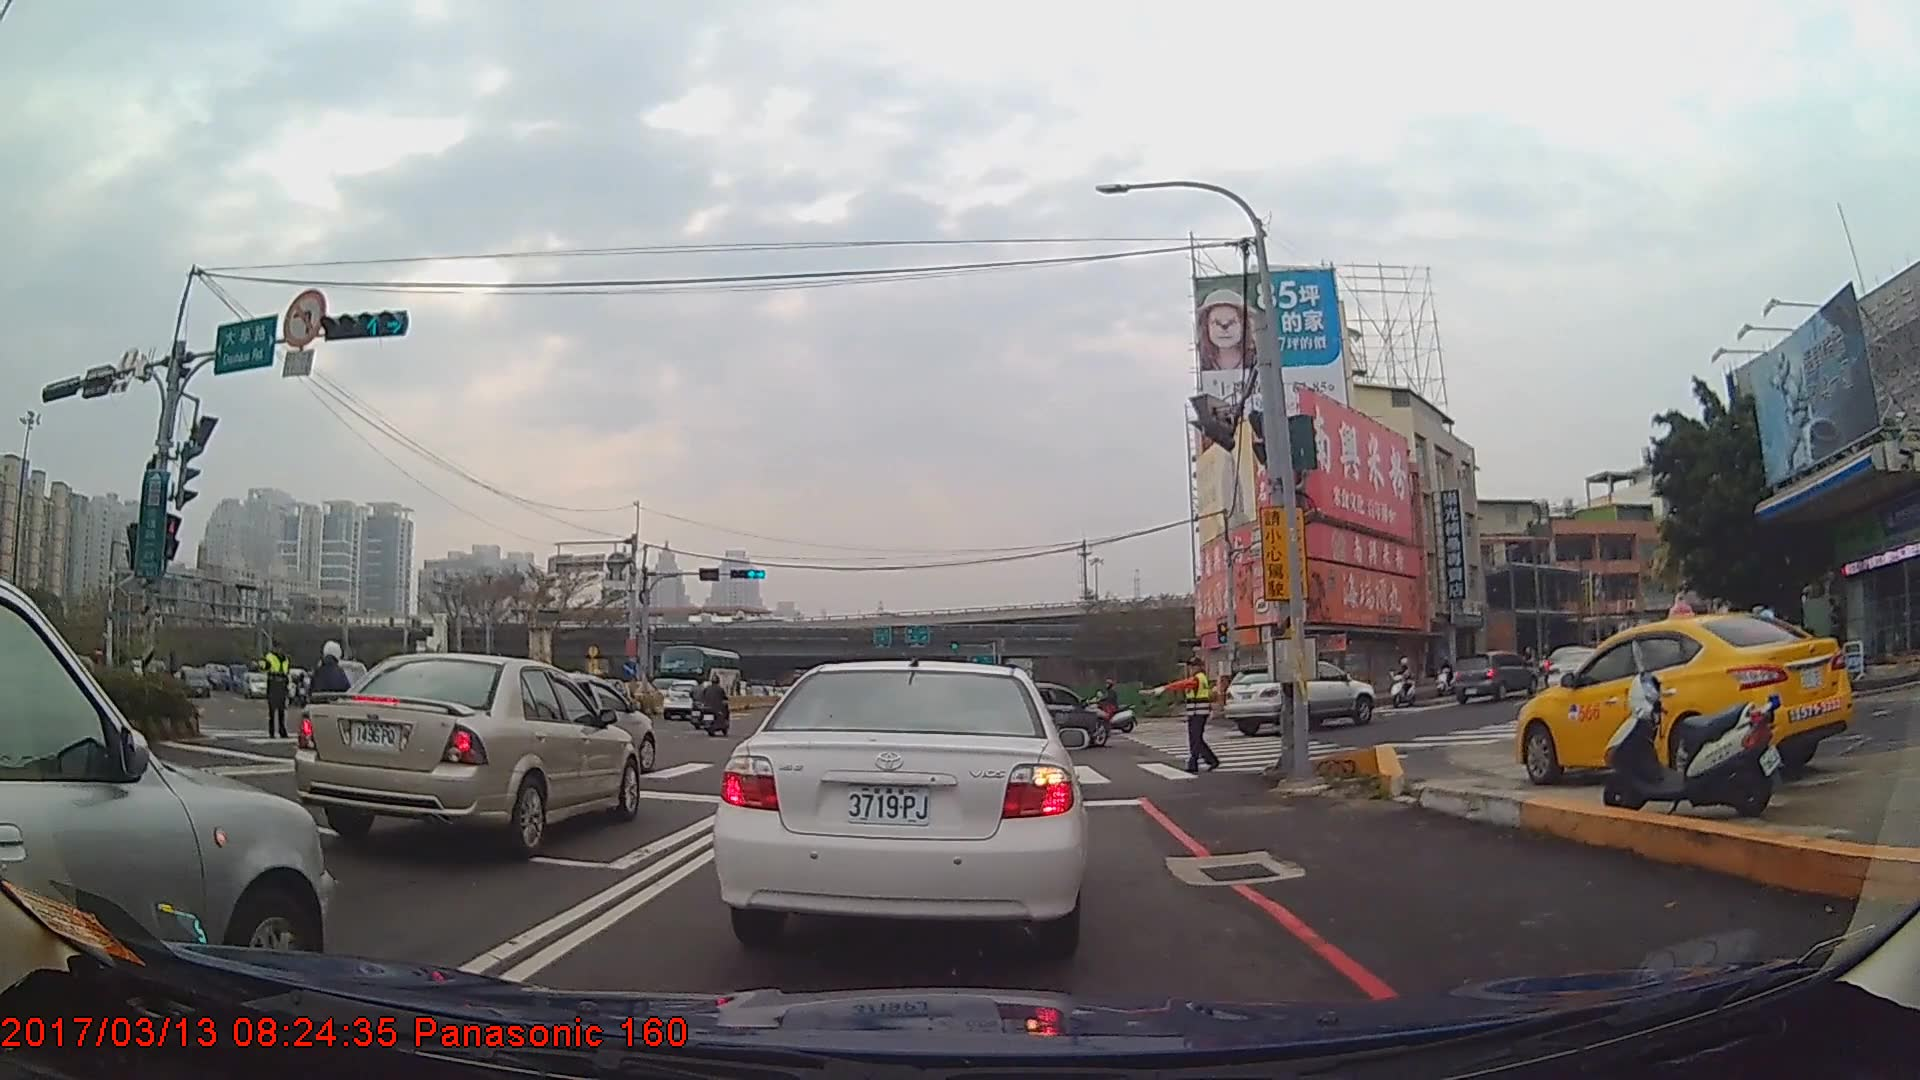pedestrian: (1139, 655, 1220, 776), (255, 639, 297, 742)
rider: (293, 637, 365, 766), (1082, 679, 1138, 734), (701, 676, 732, 736), (1390, 656, 1420, 707), (689, 678, 711, 731), (1437, 658, 1460, 698)
vehicle: (0, 580, 334, 1000), (710, 654, 1087, 951), (299, 651, 641, 856), (1510, 607, 1849, 788), (1226, 658, 1376, 737), (986, 681, 1108, 750), (1445, 649, 1533, 705), (657, 644, 739, 700), (661, 676, 721, 723)
